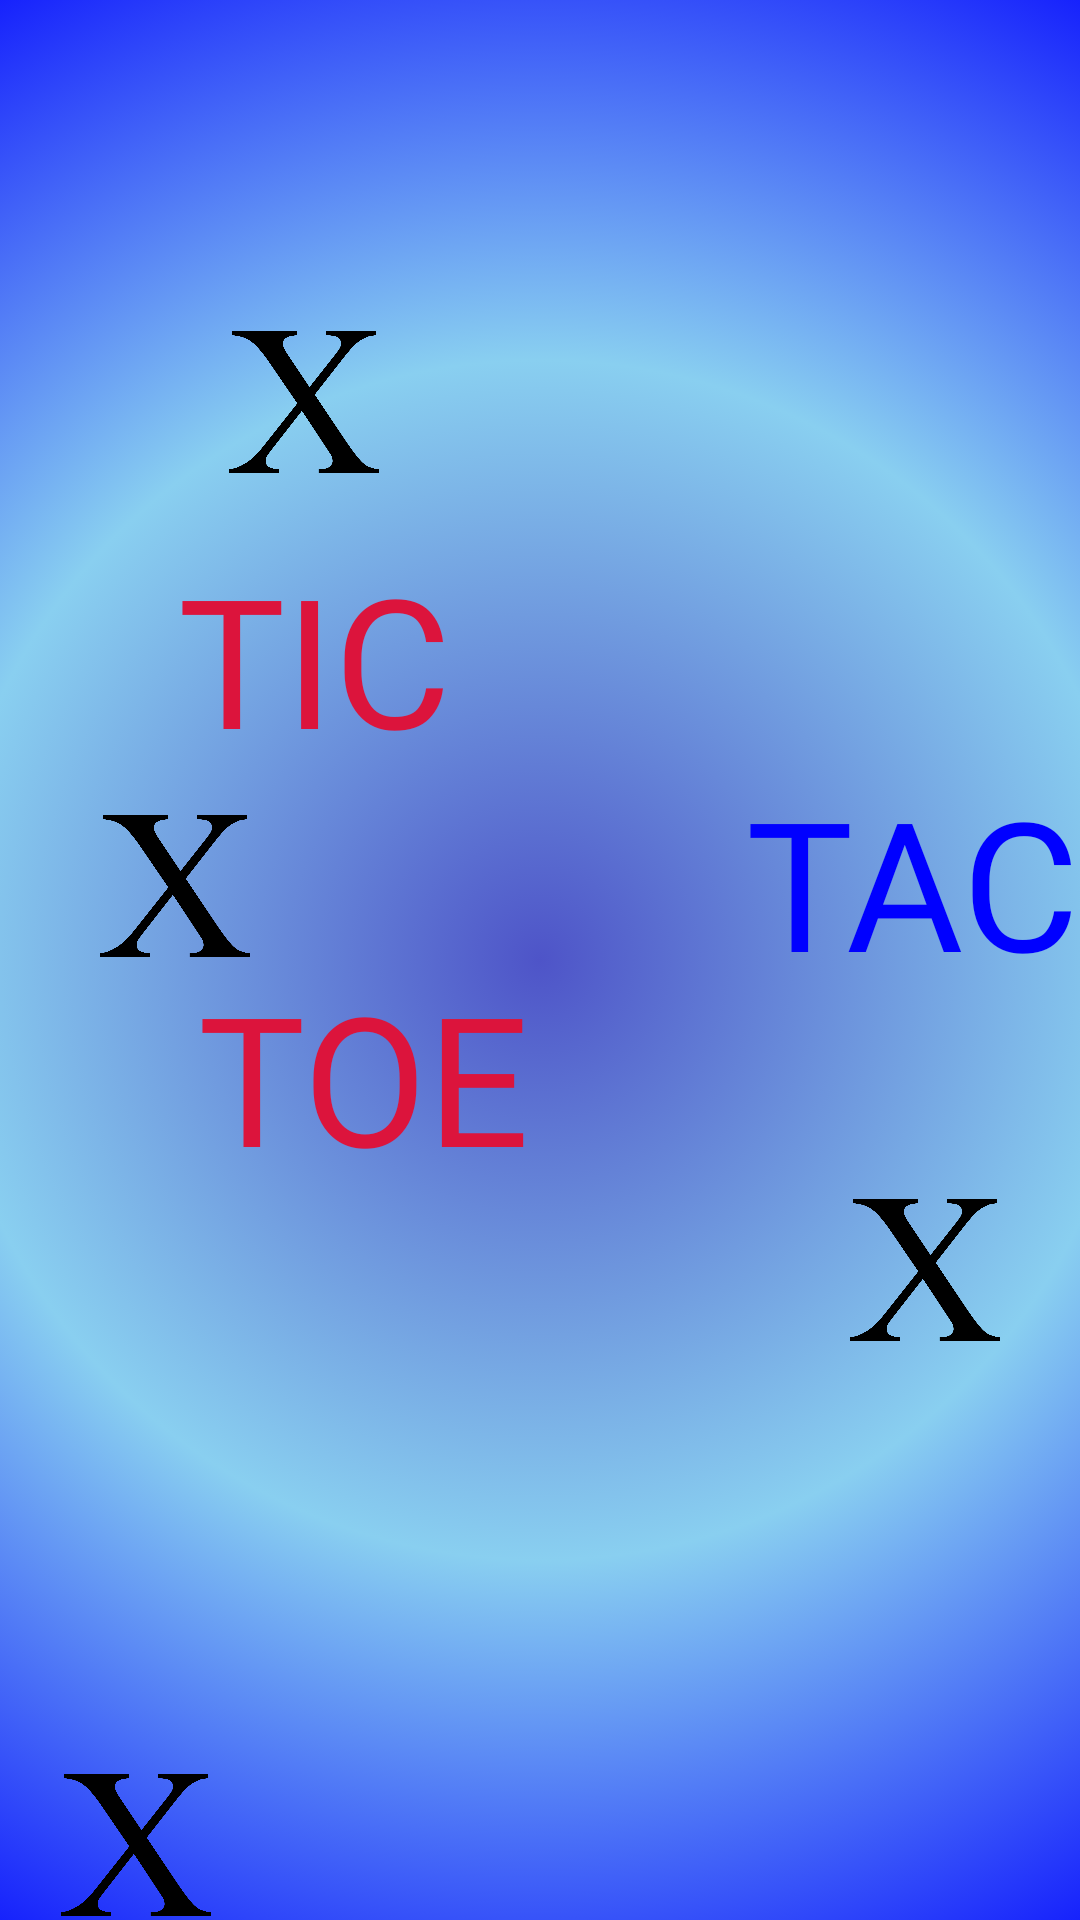

Point at icon controls on the screen. Image size 1080 × 1920, points as (x=x, y=y).
cross: (x=304, y=402), (x=175, y=886), (x=925, y=1268), (x=136, y=1845)
